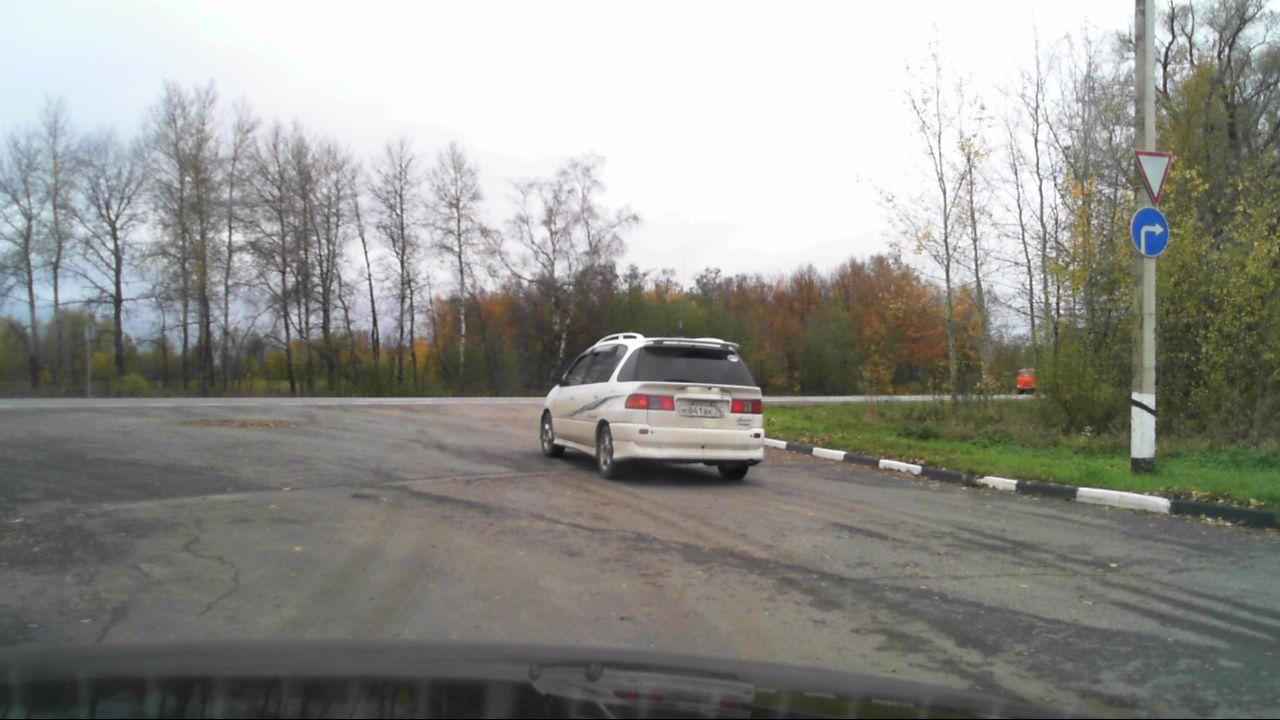2_4: (1134, 149, 1175, 202)
4_1_2: (1128, 205, 1170, 260)
